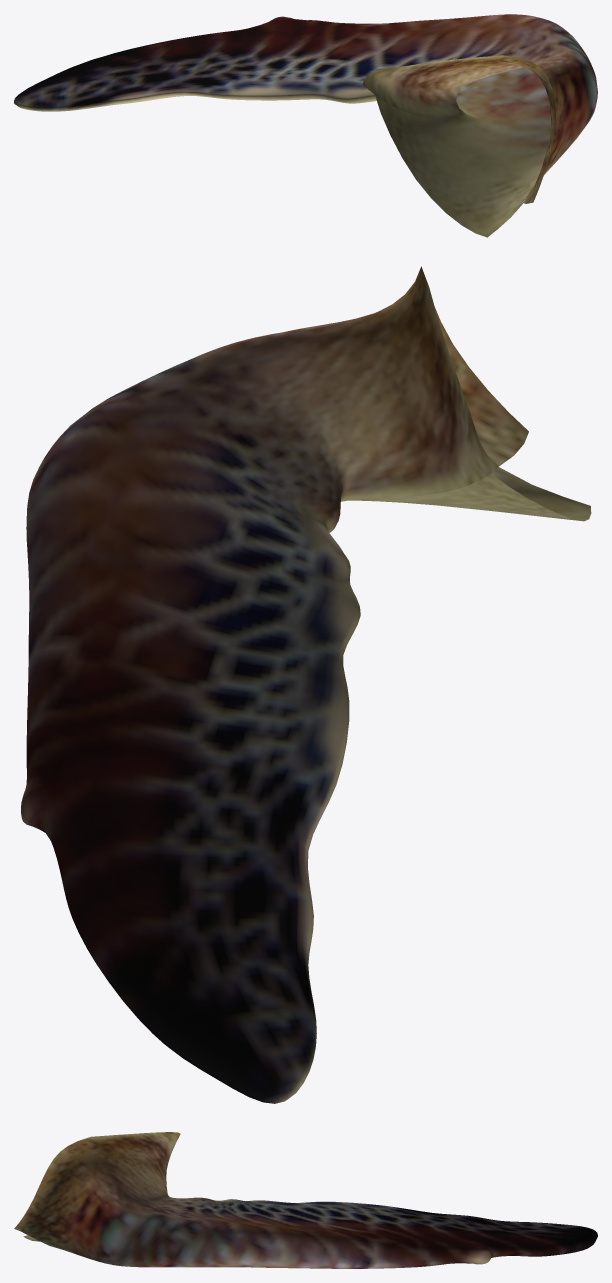
The model's file is aletaDos.obj.
The picture shows the model from 3 angles, top to bottom: view 1: azimuth 30°, elevation 25°; view 2: azimuth 150°, elevation 25°; view 3: azimuth 270°, elevation 25°; orthographic projection. The views are drawn at different scales.
Parts seen in each view (by area): view 1: aletaDos; view 2: aletaDos; view 3: aletaDos.
Part boxes in pixels (<box>): aletaDos: <box>14,14,597,237</box>; aletaDos: <box>21,266,591,1103</box>; aletaDos: <box>14,1132,597,1268</box>.
Bounding box in the file's own units: 2.63 × 1.53 × 4.41.
Materials: 1 (1 with a texture image).
